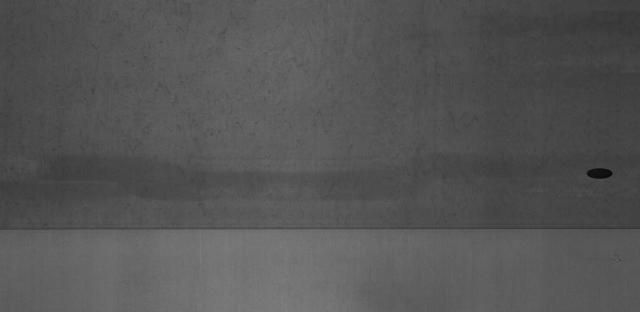punching_hole: (583, 163, 617, 182)
welding_line: (0, 215, 639, 241)
